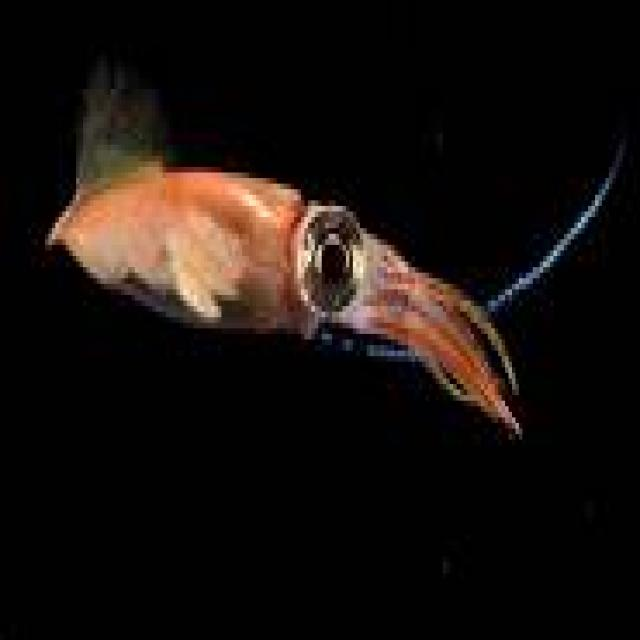SQUID: (24, 69, 626, 465)
